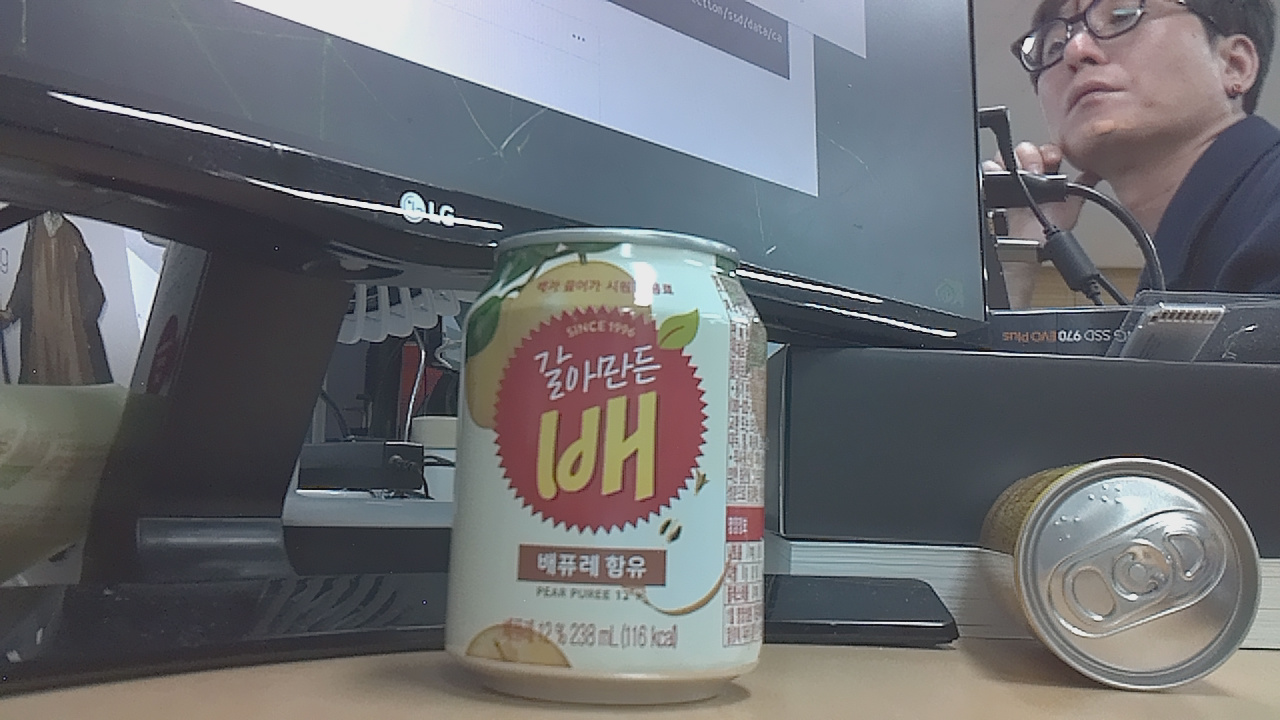IdH (pear juice): (438, 196, 783, 720)
jetty: (964, 459, 1278, 697)
